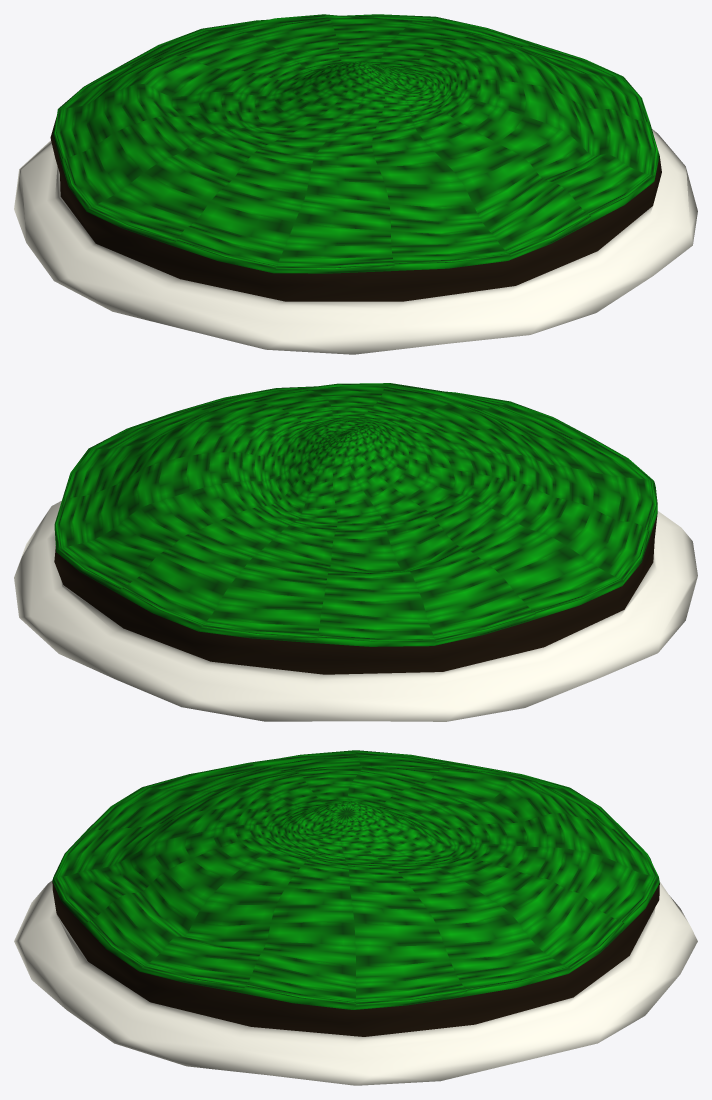
Rendered from GrassLandPiece.fbx.
3 views of the same model, one above another, from view 1: azimuth 30°, elevation 25°; view 2: azimuth 150°, elevation 25°; view 3: azimuth 270°, elevation 25° (orthographic).
Visible parts, largest first — view 1: Cylinder001; view 2: Cylinder001; view 3: Cylinder001.
Boxes of the visible parts, left/top/right/bottom form: Cylinder001: left=14, top=14, right=697, bottom=354; Cylinder001: left=14, top=383, right=697, bottom=721; Cylinder001: left=14, top=750, right=697, bottom=1085.
Bounding box in the file's own units: 265 × 63.59 × 265.
Materials: 3 (1 with a texture image).
